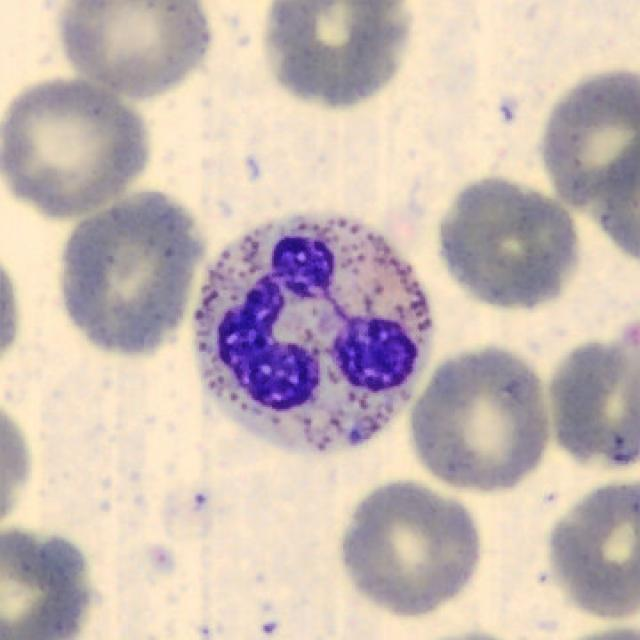Neutrofilo segmentado: (192, 212, 436, 457)
